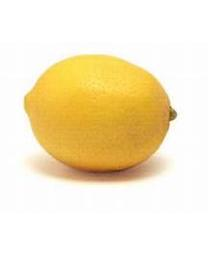lemon: (23, 57, 175, 171)
